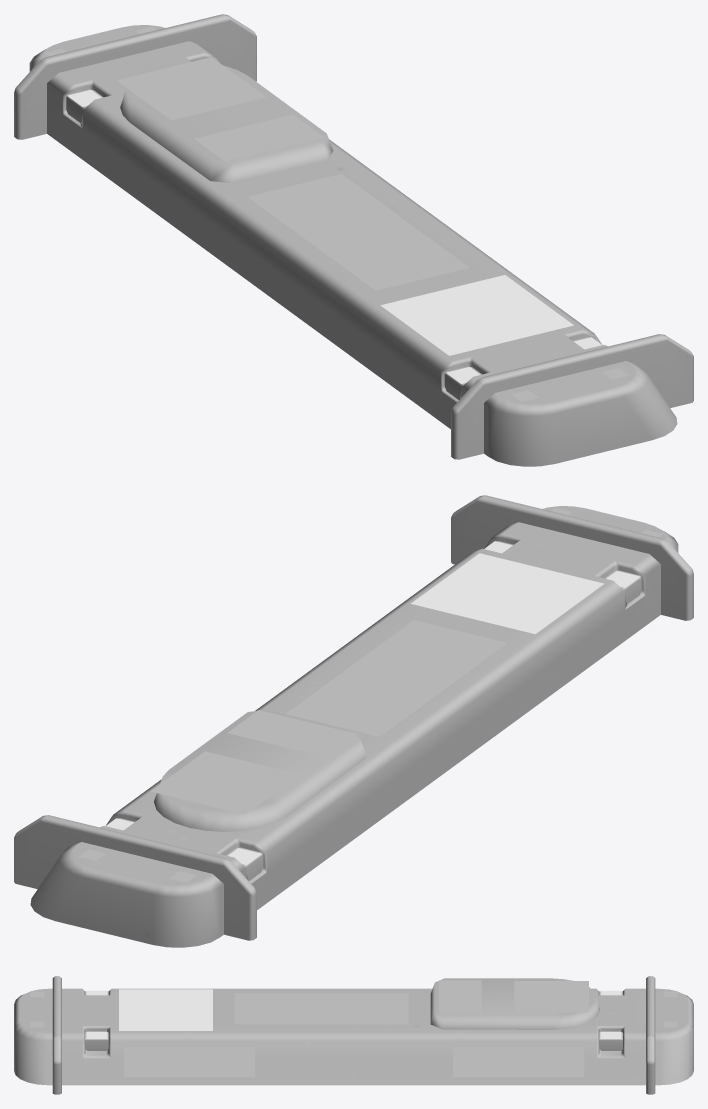
File: SM_Modular_Part_2.fbx
3 renders of one model, top to bottom at view 1: azimuth 30°, elevation 25°; view 2: azimuth 150°, elevation 25°; view 3: azimuth 270°, elevation 25°, orthographic. The views are drawn at different scales.
Parts seen in each view (by area): view 1: SM_Modular_Part_2_LOD0; view 2: SM_Modular_Part_2_LOD0; view 3: SM_Modular_Part_2_LOD0.
Boxes of the visible parts, x1,y1,x2,y2 form: SM_Modular_Part_2_LOD0: (14, 14, 693, 466); SM_Modular_Part_2_LOD0: (14, 495, 693, 947); SM_Modular_Part_2_LOD0: (14, 976, 693, 1094).
Bounding box in the file's own units: 28.63 × 104 × 8.84.
